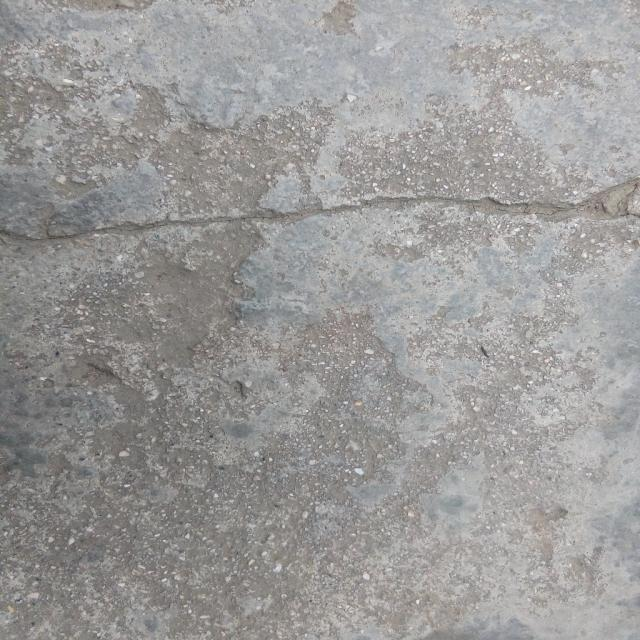cracks: (0, 161, 640, 256)
